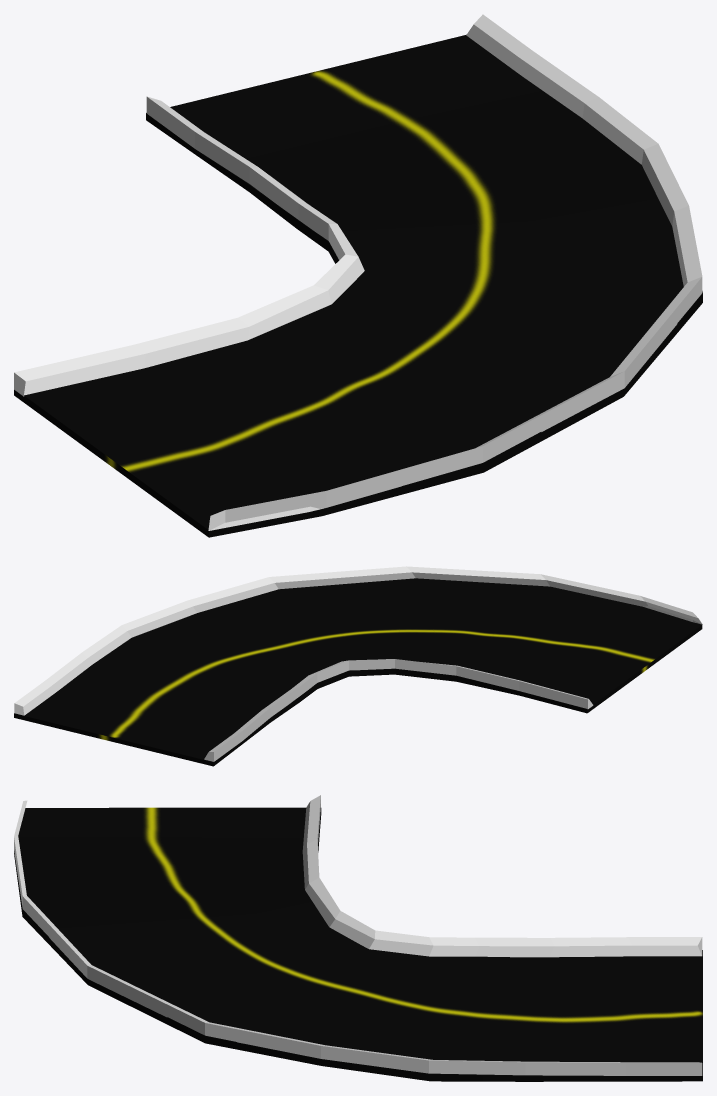
Rendered from CornerR.FBX.
The picture shows the model from 3 angles, top to bottom: view 1: azimuth 30°, elevation 25°; view 2: azimuth 150°, elevation 25°; view 3: azimuth 270°, elevation 25°; orthographic projection. The views are drawn at different scales.
Parts seen in each view (by area): view 1: Corner, Curb003, Curb002; view 2: Corner, Curb003, Curb002; view 3: Corner, Curb003, Curb002.
Boxes of the visible parts, x1,y1,x2,y2 form: Corner: (14, 34, 702, 537); Curb003: (208, 14, 702, 530); Curb002: (14, 96, 364, 396); Corner: (14, 578, 702, 766); Curb003: (14, 566, 702, 715); Curb002: (204, 659, 593, 761); Corner: (14, 807, 702, 1081); Curb003: (14, 800, 702, 1075); Curb002: (302, 795, 702, 957).
Bounding box in the file's own units: 205 × 7.48 × 222.
1 material, 1 textured.
